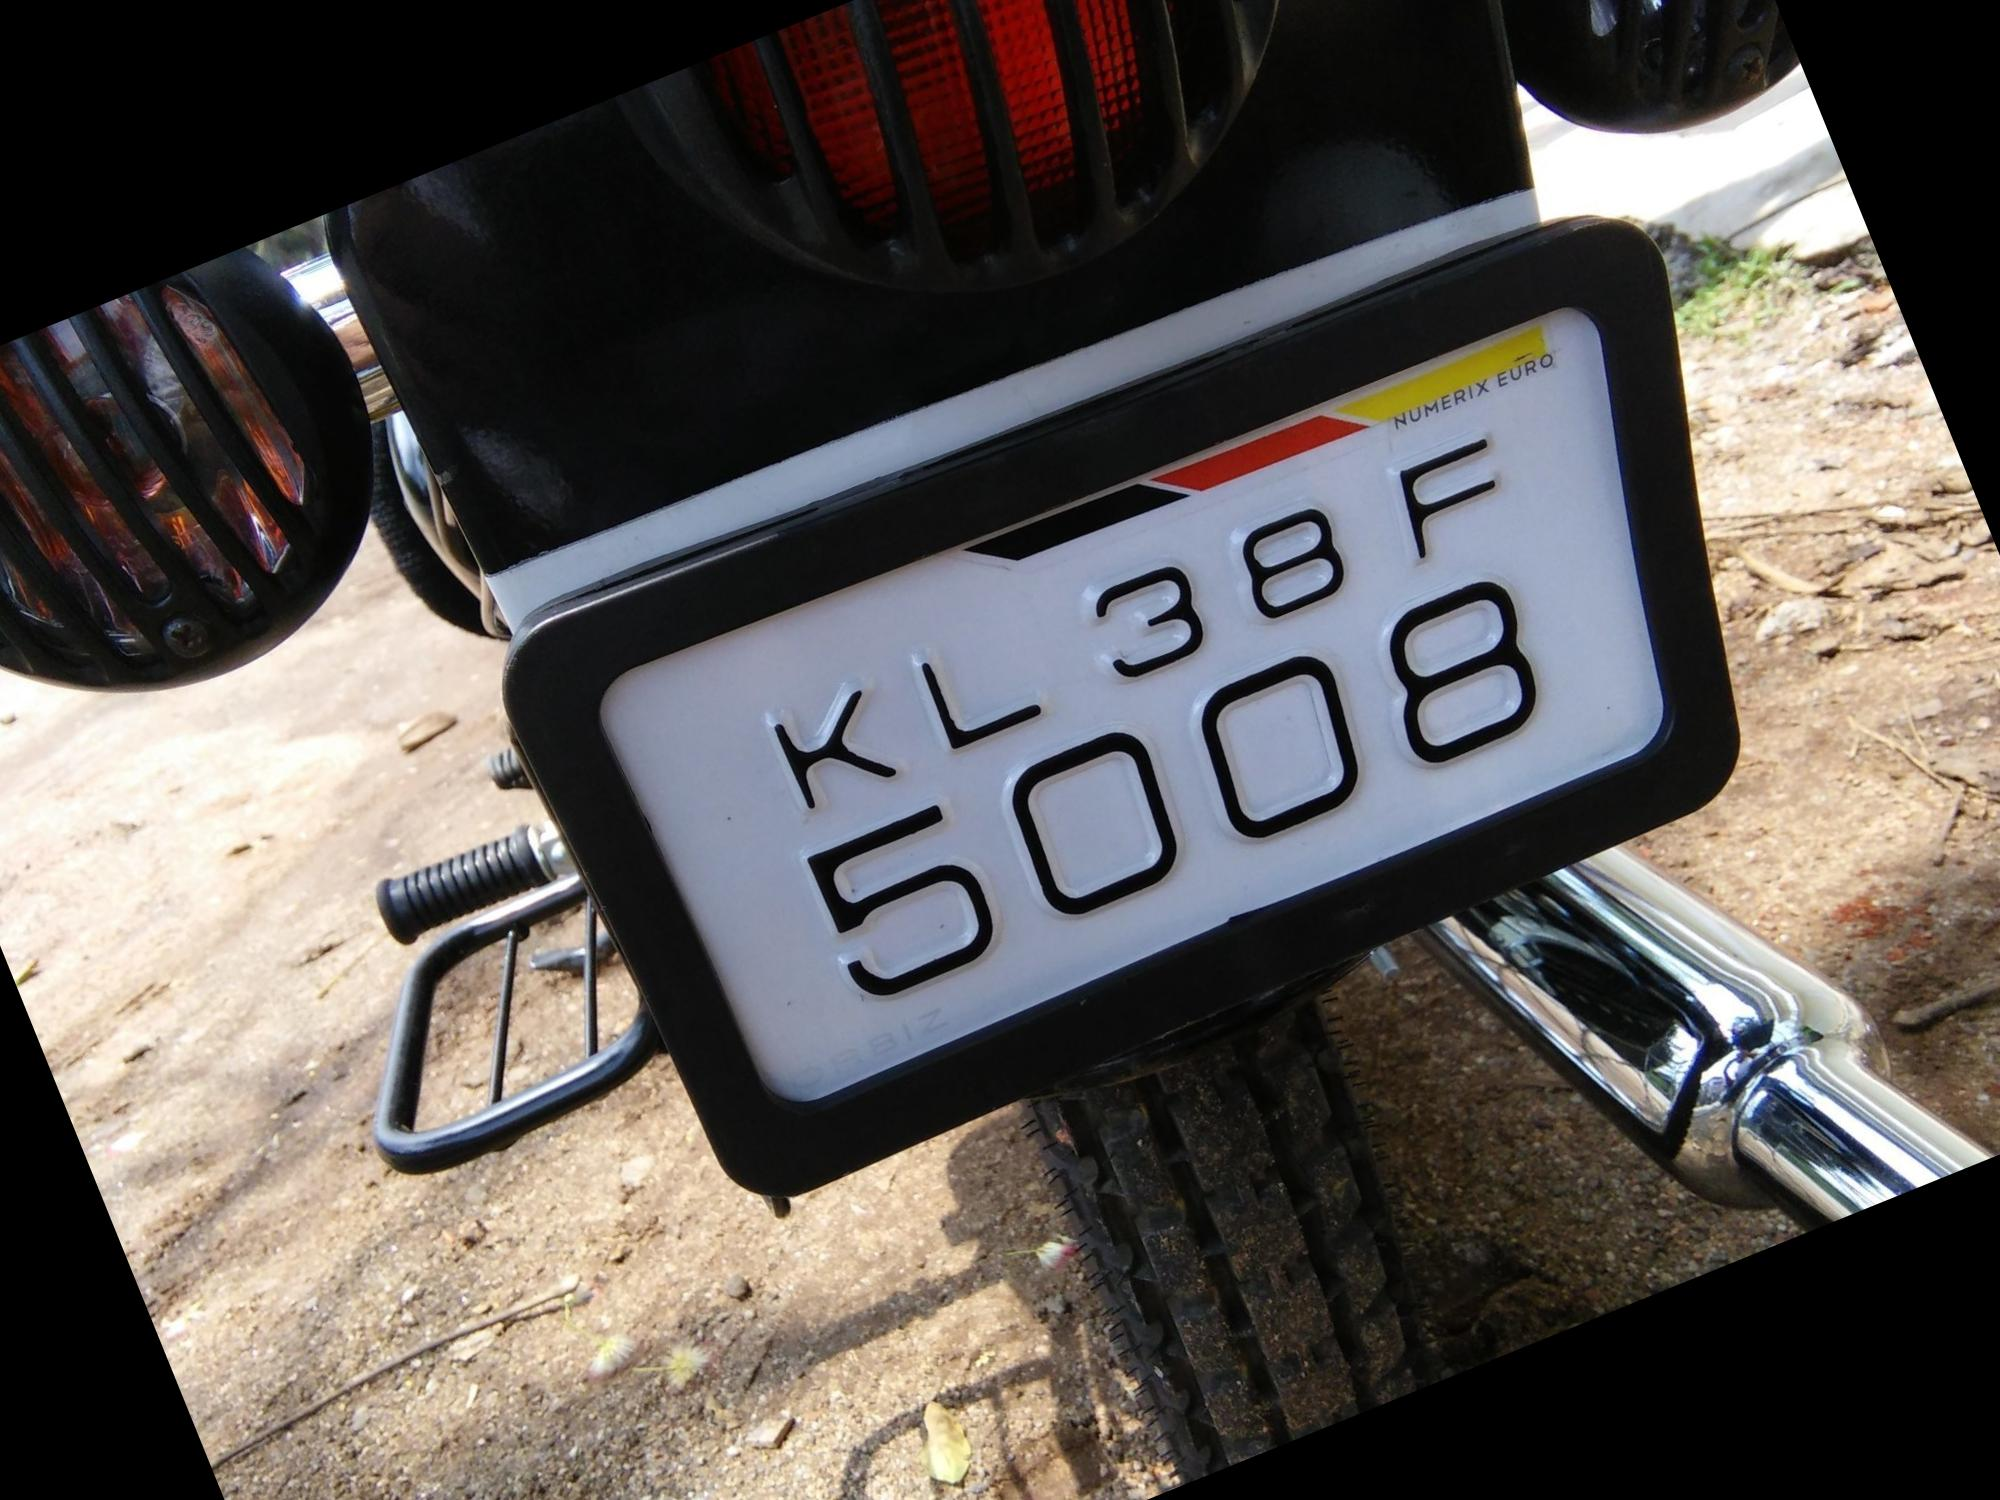plate: (471, 183, 1814, 1221)
